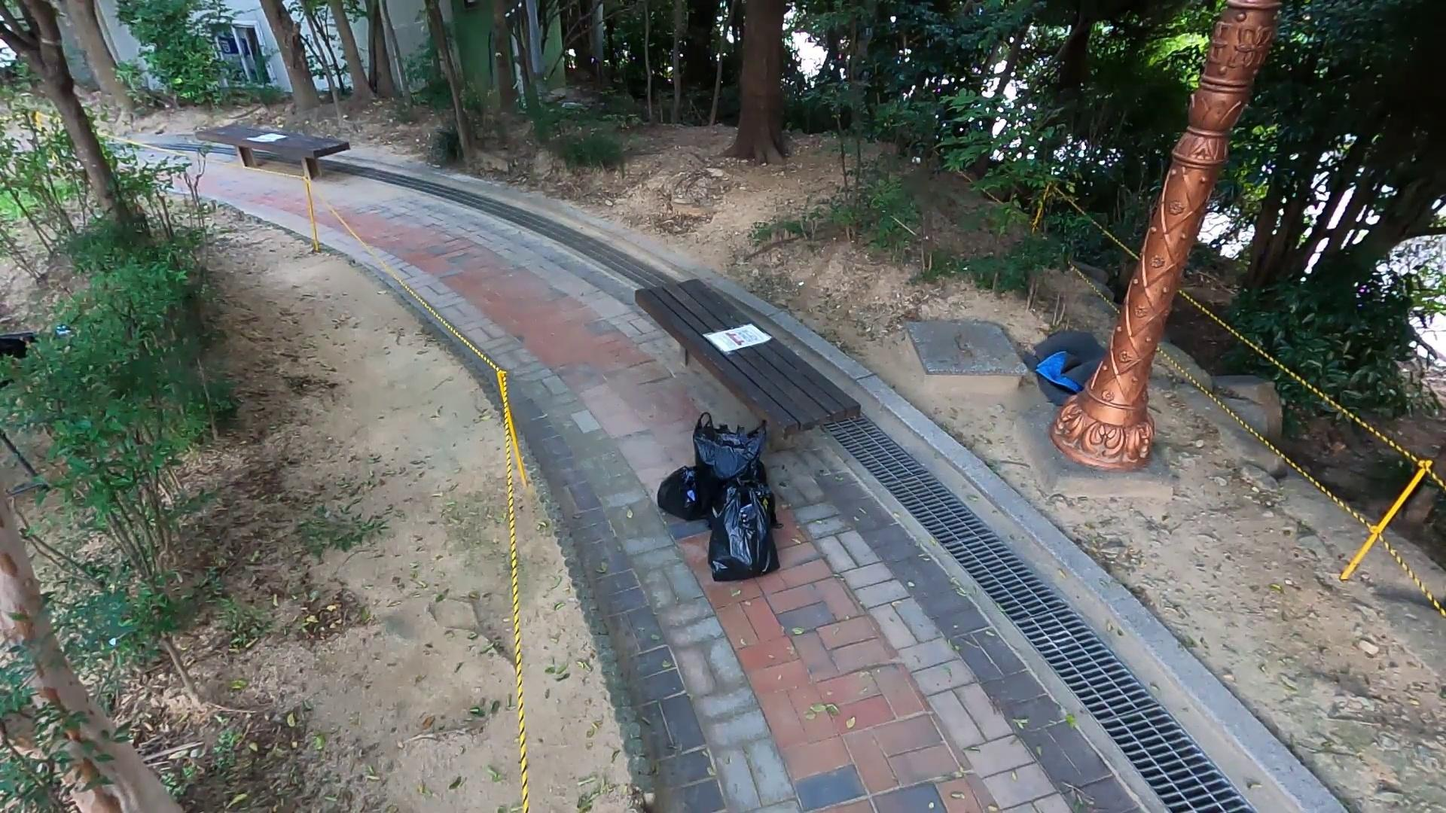trash: (693, 408, 782, 524), (708, 484, 780, 582), (1023, 324, 1108, 405), (657, 461, 726, 518), (723, 475, 782, 529)
